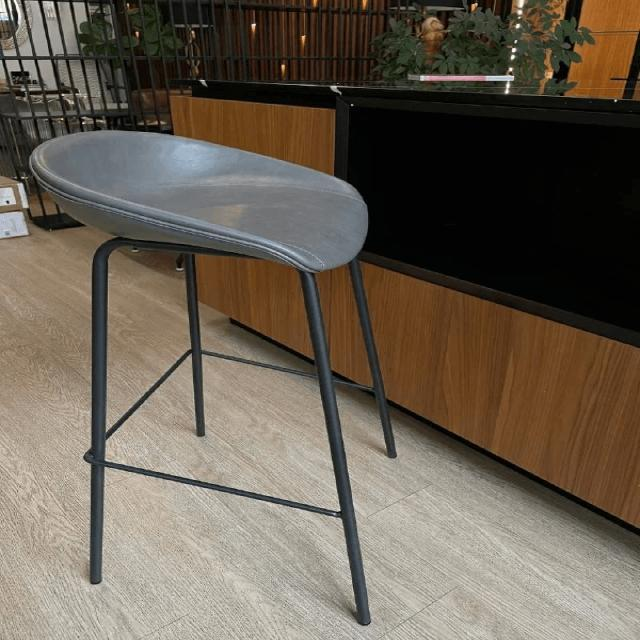chair: (24, 117, 428, 634), (22, 116, 400, 307)
